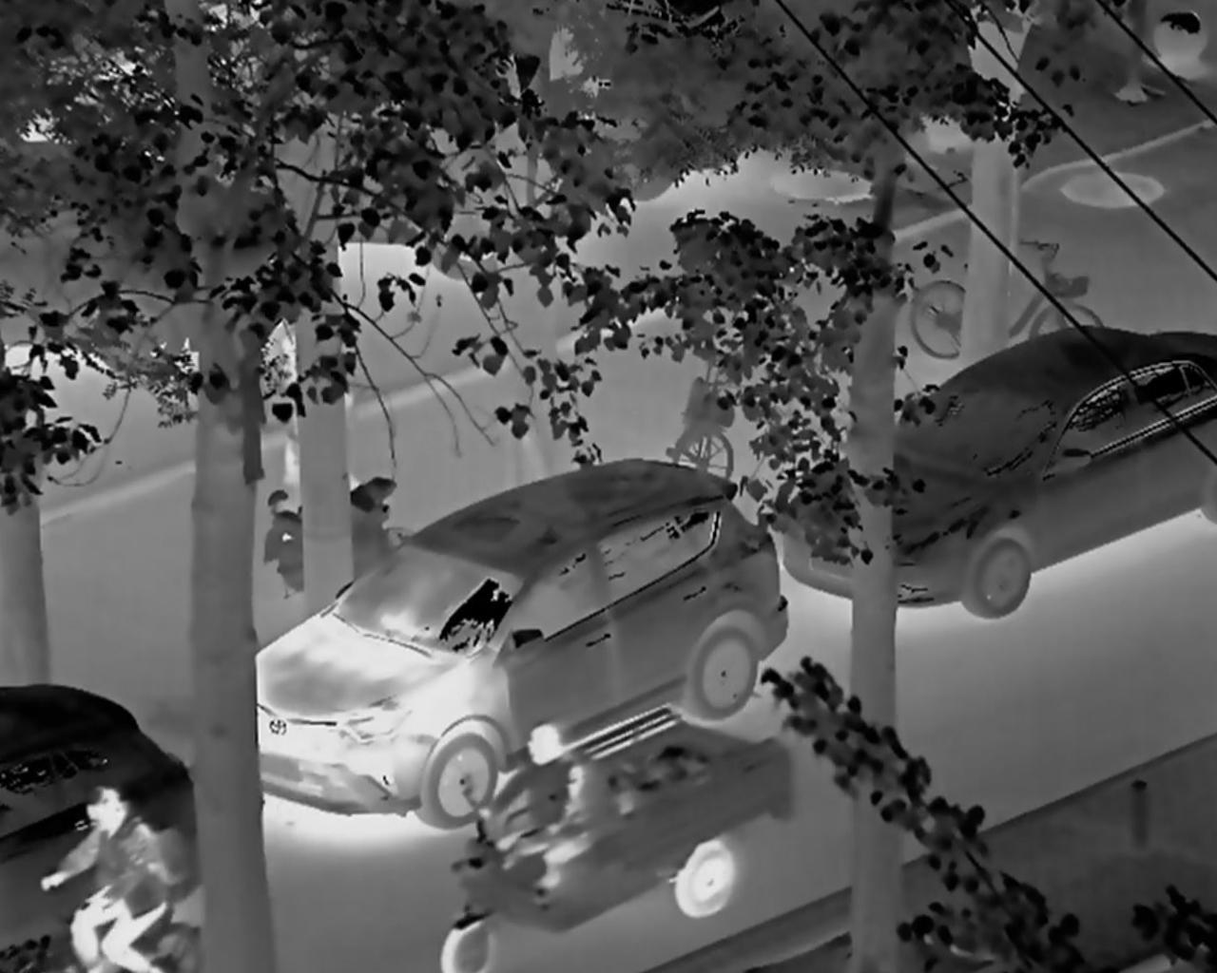person: (43, 779, 193, 973), (462, 721, 590, 907)
